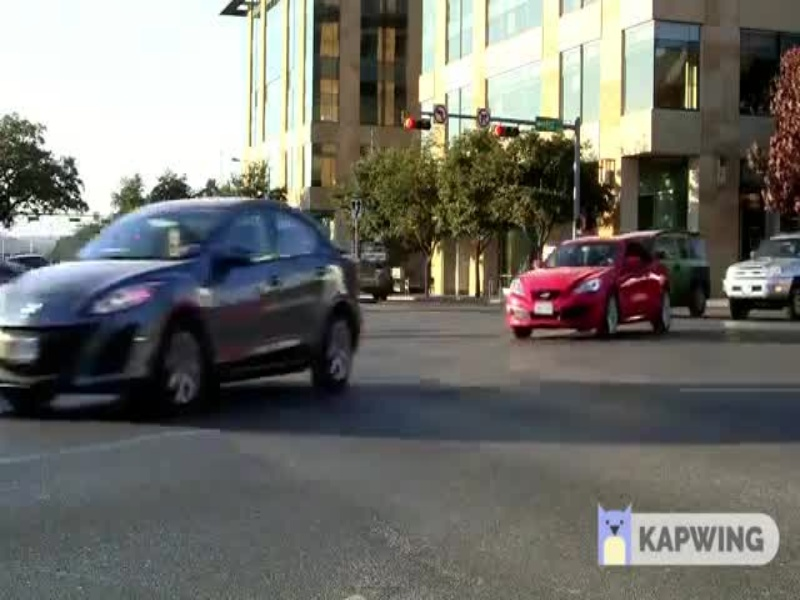car: (1, 194, 373, 395), (495, 236, 671, 346)
